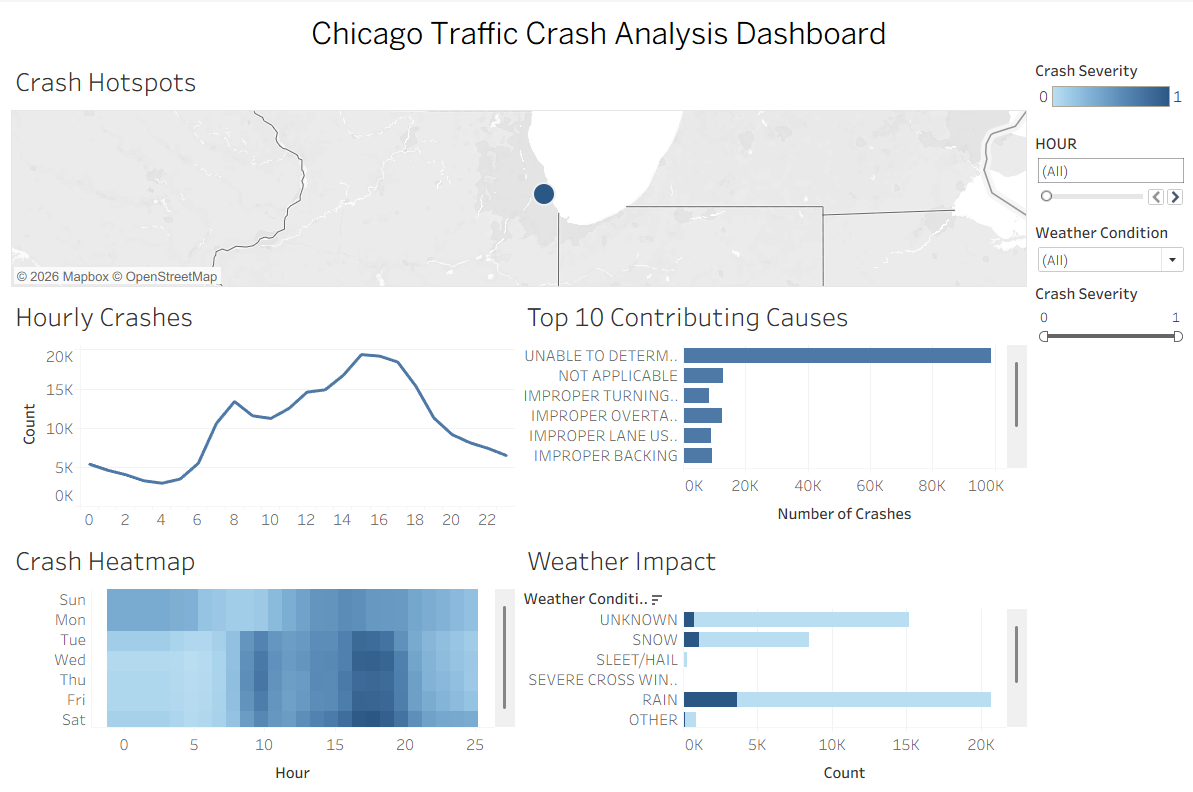

This screenshot's page, from the dashboard's own definition file:
{"tool":"tableau","page":{"name":"Dashboard 1","canvas":[1200,800],"ordinal":0},"visuals":[{"type":"title","box":[8,8,1184,46]},{"type":"worksheet","title":"Crash Hotspots","mark":"Automatic","rows":["LATITUDE"],"cols":["LONGITUDE"],"box":[8,54,1024,235]},{"type":"legend","title":"Weather Impact","param":"[federated.0xsivl1185dzfm16bfgzv19bi8bv].[none:CRASH_SEVERITY:qk]","box":[1032,54,160,73]},{"type":"filter","title":"Hourly Crashes","param":"[federated.1ge9o2o1ygps7k0zmsjmn1oz8yki].[none:HOUR (hourly_counts.csv):ok]","box":[1032,127,160,89]},{"type":"filter","title":"Weather Impact","param":"[federated.0xsivl1185dzfm16bfgzv19bi8bv].[none:WEATHER_CONDITION:nk]","box":[1032,216,160,61]},{"type":"filter","title":"Weather Impact","param":"[federated.0xsivl1185dzfm16bfgzv19bi8bv].[none:CRASH_SEVERITY:qk]","box":[1032,277,160,73]},{"type":"worksheet","title":"Hourly Crashes","mark":"Line","rows":["count"],"cols":["HOUR (hourly_counts.csv)"],"box":[8,289,512,244]},{"type":"worksheet","title":"Top Crash Causes","mark":"Automatic","rows":["PRIM_CONTRIBUTORY_CAUSE"],"cols":["count"],"box":[520,289,512,244]},{"type":"worksheet","title":"Crash Heatmap","mark":"Square","rows":["DOW_NAME"],"cols":["HOUR"],"box":[8,533,512,259]},{"type":"worksheet","title":"Weather Impact","mark":"Bar","rows":["WEATHER_CONDITION"],"cols":["count"],"box":[520,533,512,259]}]}

Visuals, with their boxes in screenshot pixels (x1, y1, x2, y2), scaled from the page's 1200x800 canvas onto the 1193x792 screenshot:
title: (8, 8, 1185, 53)
"Crash Hotspots" worksheet: (8, 53, 1026, 286)
"Weather Impact" legend: (1026, 53, 1185, 126)
"Hourly Crashes" filter: (1026, 126, 1185, 214)
"Weather Impact" filter: (1026, 214, 1185, 274)
"Weather Impact" filter: (1026, 274, 1185, 346)
"Hourly Crashes" worksheet (Line marks): (8, 286, 517, 528)
"Top Crash Causes" worksheet: (517, 286, 1026, 528)
"Crash Heatmap" worksheet (Square marks): (8, 528, 517, 784)
"Weather Impact" worksheet (Bar marks): (517, 528, 1026, 784)
